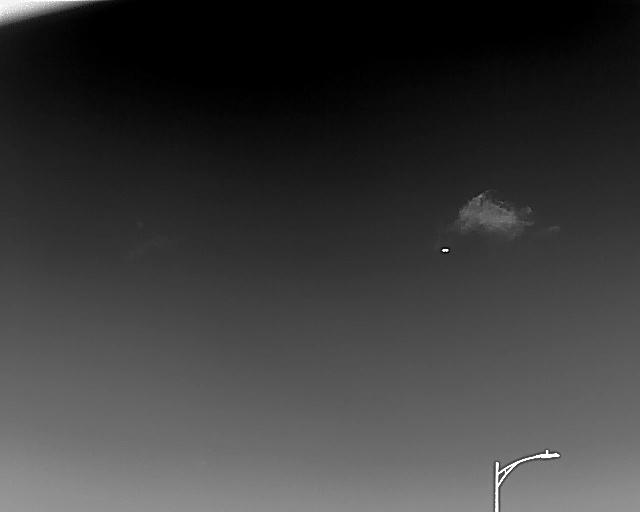fpv-drone: (440, 246, 450, 253)
